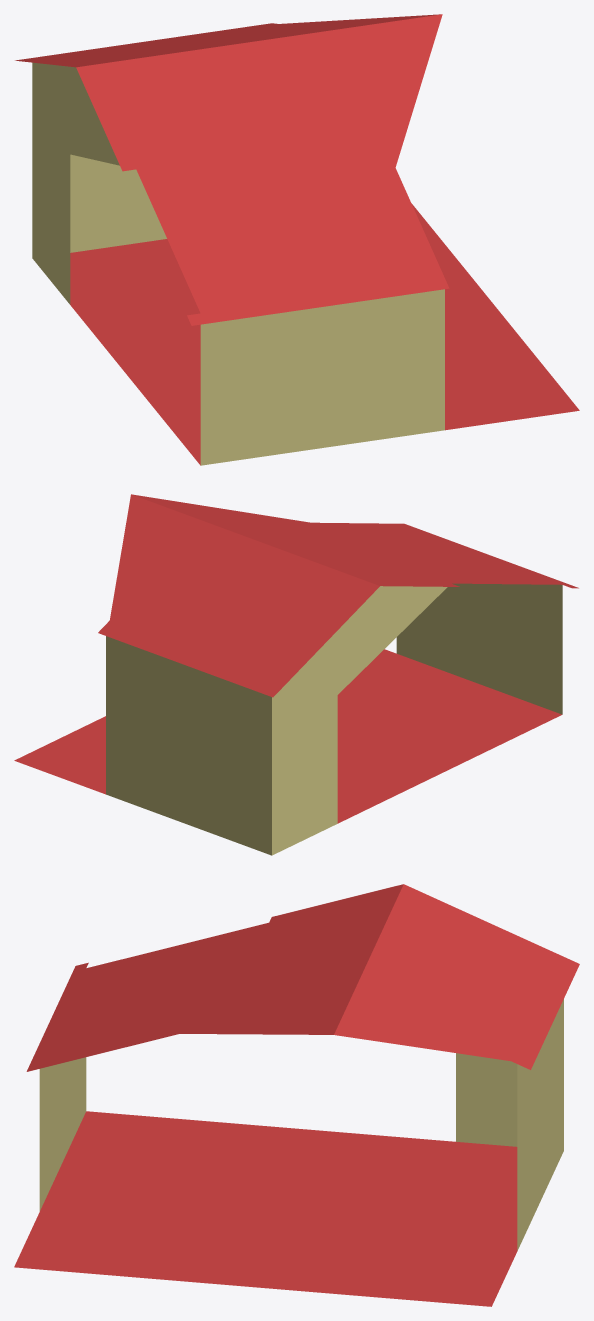
3 views of the same model, one above another, from view 1: azimuth 30°, elevation 25°; view 2: azimuth 150°, elevation 25°; view 3: azimuth 270°, elevation 25° (orthographic). The views are drawn at different scales.
Bounding box in the file's own units: 17.62 × 20.82 × 10.05.
